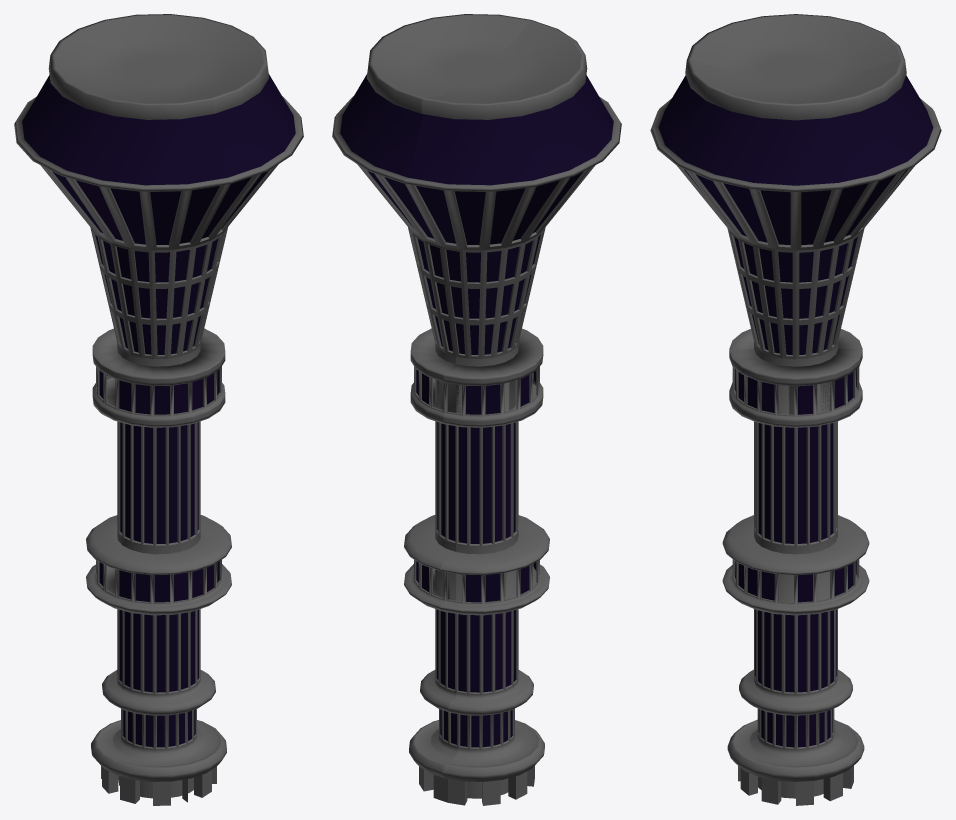
The model's file is tall.fbx.
3 views of the same model, side by side, from view 1: azimuth 30°, elevation 25°; view 2: azimuth 150°, elevation 25°; view 3: azimuth 270°, elevation 25° (orthographic).
Parts seen in each view (by area): view 1: tall; view 2: tall; view 3: tall.
Boxes of the visible parts, x1,y1,x2,y2 form: tall: (14,14,303,805); tall: (332,14,621,805); tall: (650,14,941,805).
Bounding box in the file's own units: 258 × 706 × 258.
